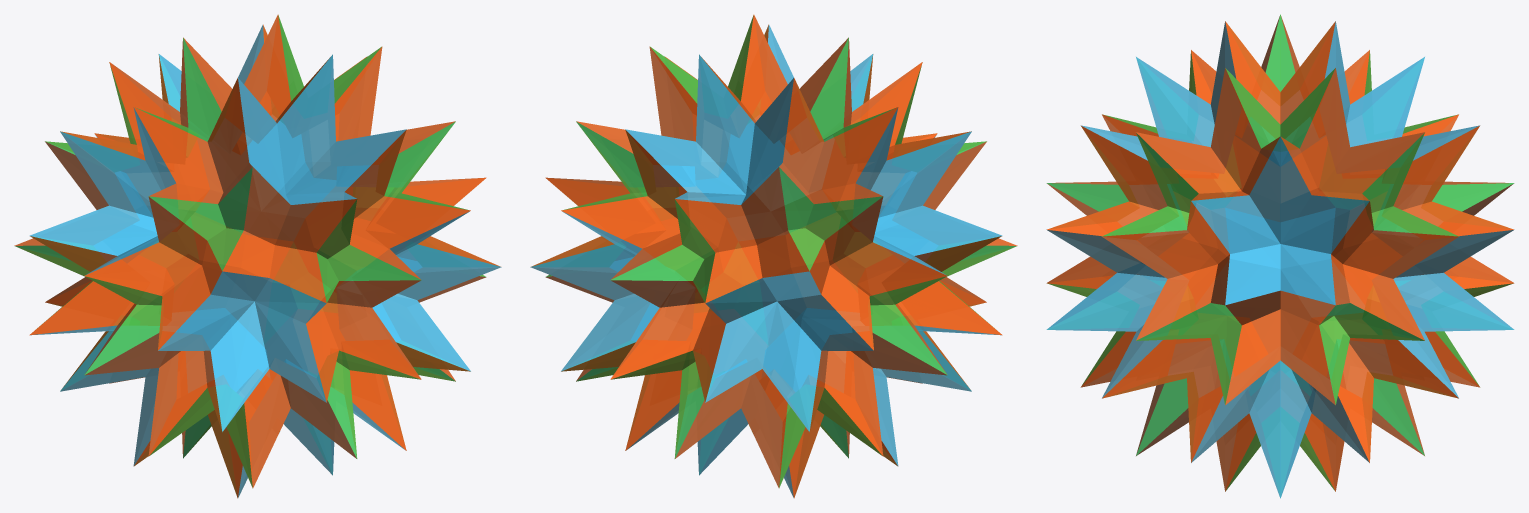
File: Rhombicosidodecahedron.obj
3 renders of one model, left to right at view 1: azimuth 30°, elevation 25°; view 2: azimuth 150°, elevation 25°; view 3: azimuth 270°, elevation 25°, orthographic.
Bounding box in the file's own units: 4.24 × 4.24 × 4.24.
